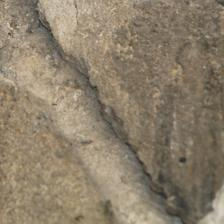Crack: (2, 1, 182, 220)
